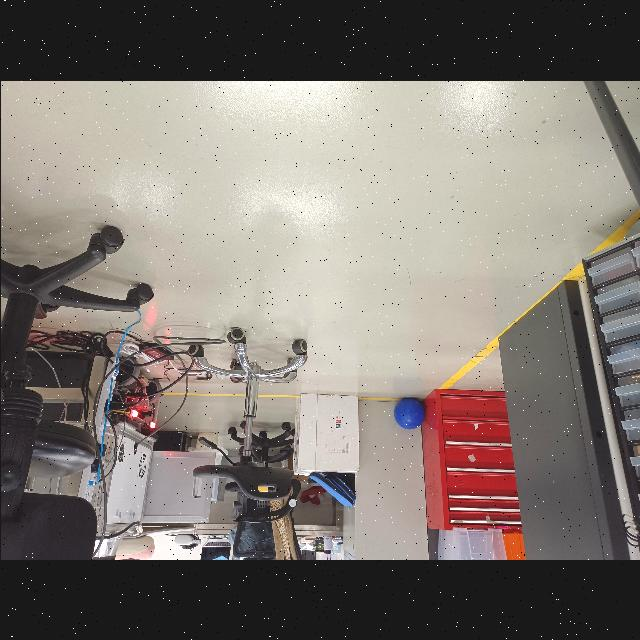B: (390, 398, 424, 428)
